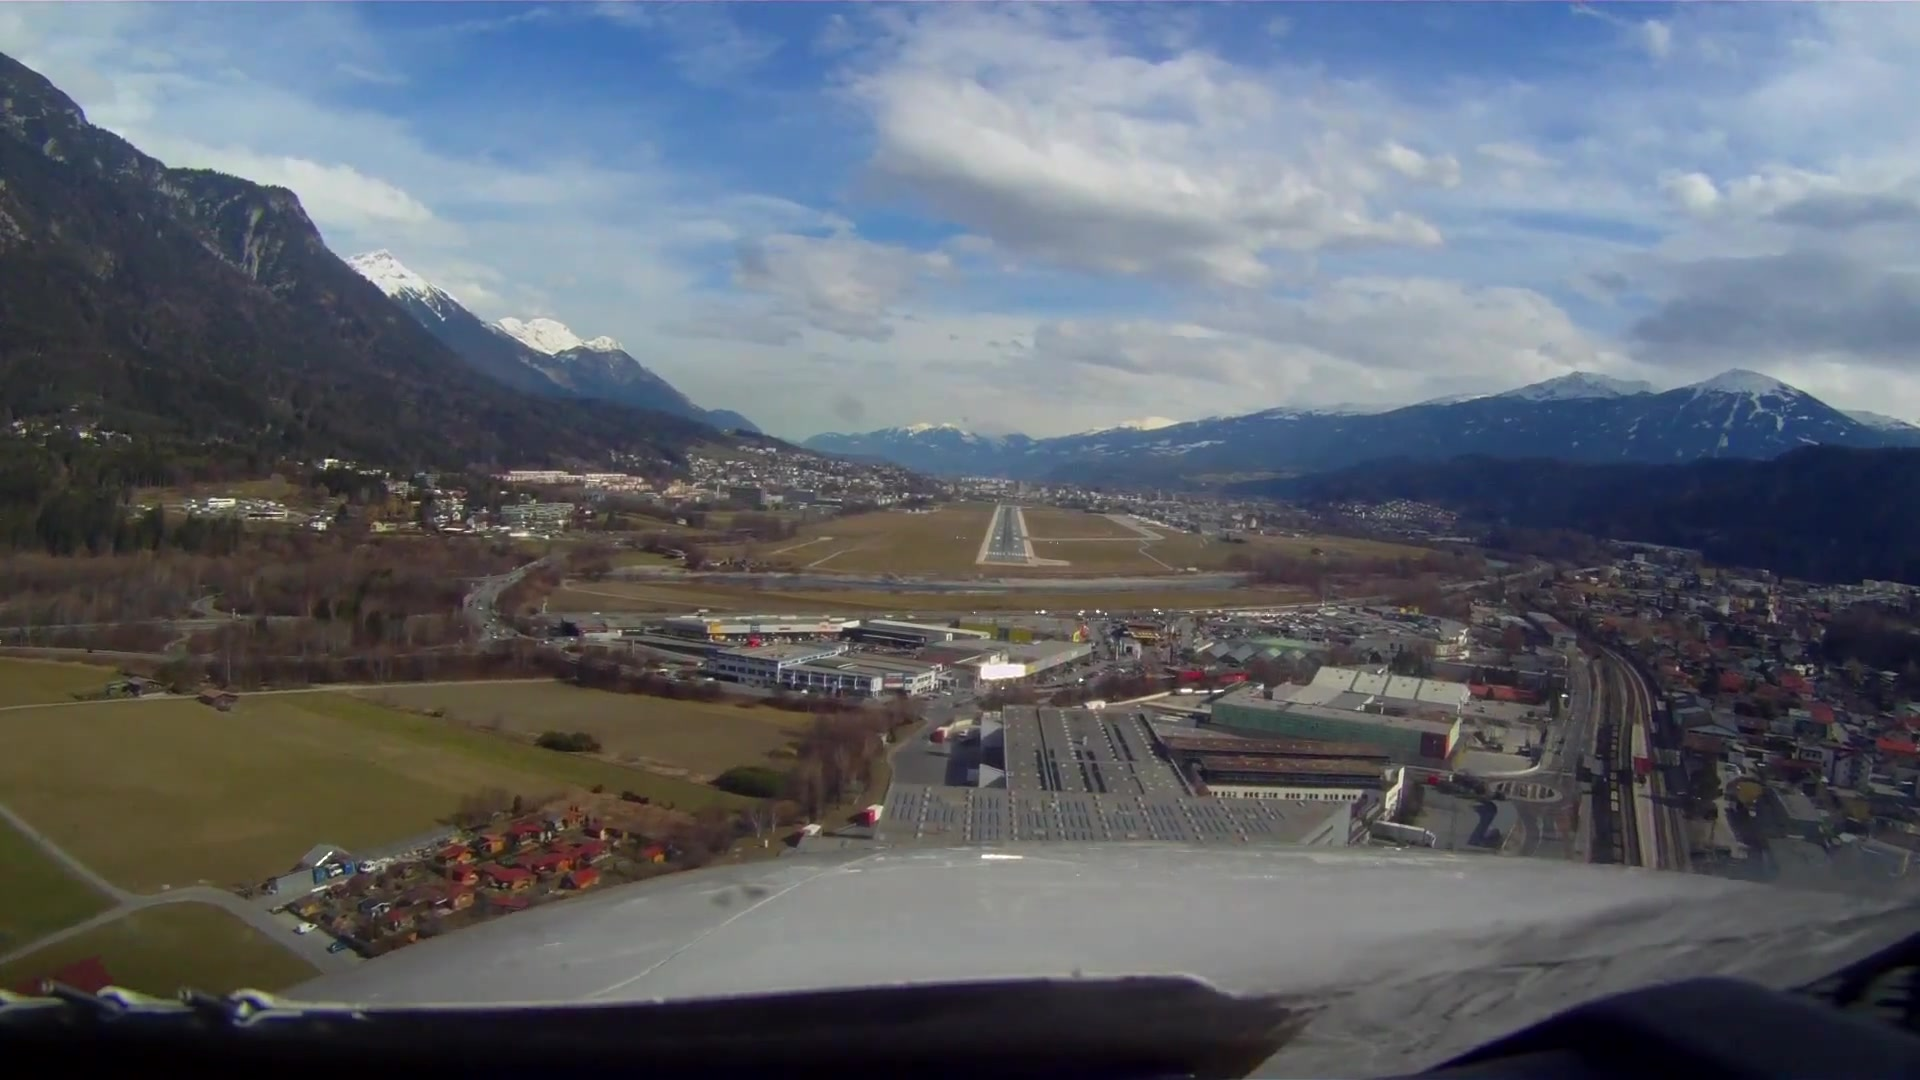entrance: (982, 553, 1027, 556)
runway: (978, 502, 1036, 567)
